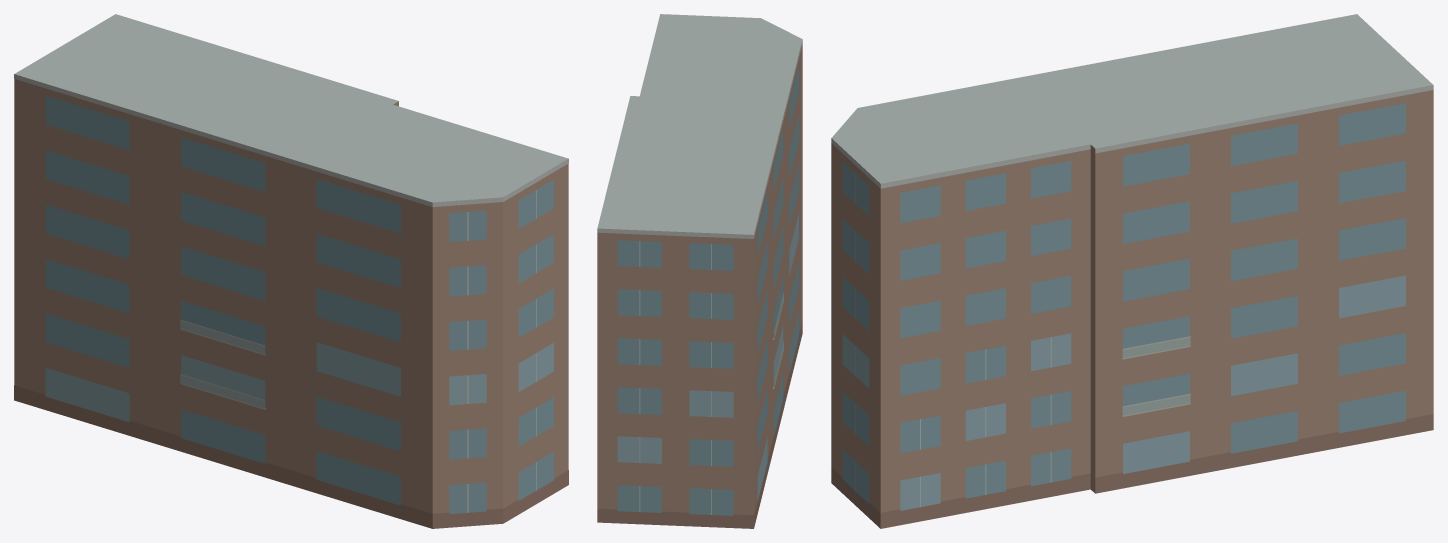
Rendered from survey-upis-32948617.glb.
3 views of the same model, side by side, from view 1: azimuth 30°, elevation 25°; view 2: azimuth 150°, elevation 25°; view 3: azimuth 270°, elevation 25° (orthographic). The views are drawn at different scales.
Parts seen in each view (by area): view 1: survey-upis-32948617.tmp; view 2: survey-upis-32948617.tmp; view 3: survey-upis-32948617.tmp.
Boxes of the visible parts, box(x1,y1,x2,y2) form: survey-upis-32948617.tmp: box(14, 14, 568, 528); survey-upis-32948617.tmp: box(597, 14, 802, 528); survey-upis-32948617.tmp: box(831, 14, 1433, 528).
Size of the model in its own units: 18.23 by 17.25 by 27.29.
